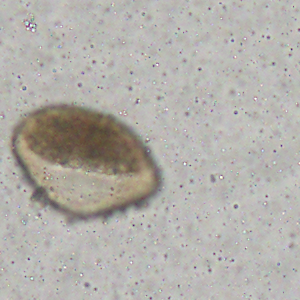Fasciola_hepatica_egg: (9, 103, 163, 219)
